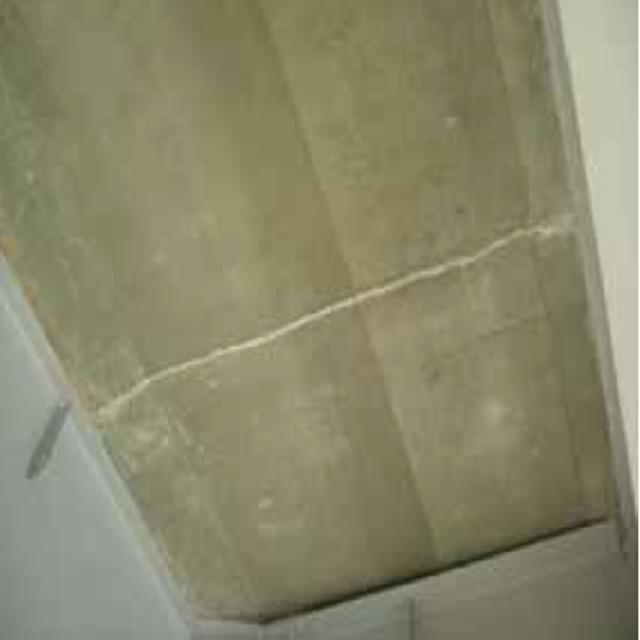crack: (90, 197, 584, 430)
